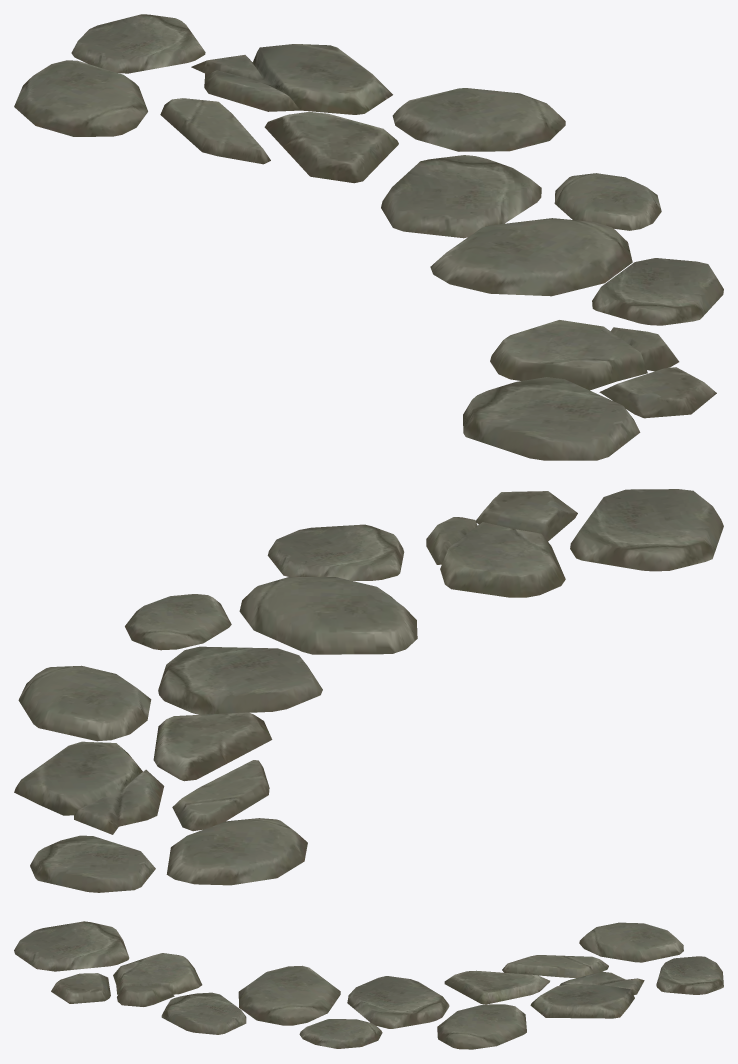
3 renders of one model, top to bottom at view 1: azimuth 30°, elevation 25°; view 2: azimuth 150°, elevation 25°; view 3: azimuth 270°, elevation 25°, orthographic. The views are drawn at different scales.
Bounding box in the file's own units: 5.08 × 0.3114 × 12.37.
Materials: 1 (1 with a texture image).
